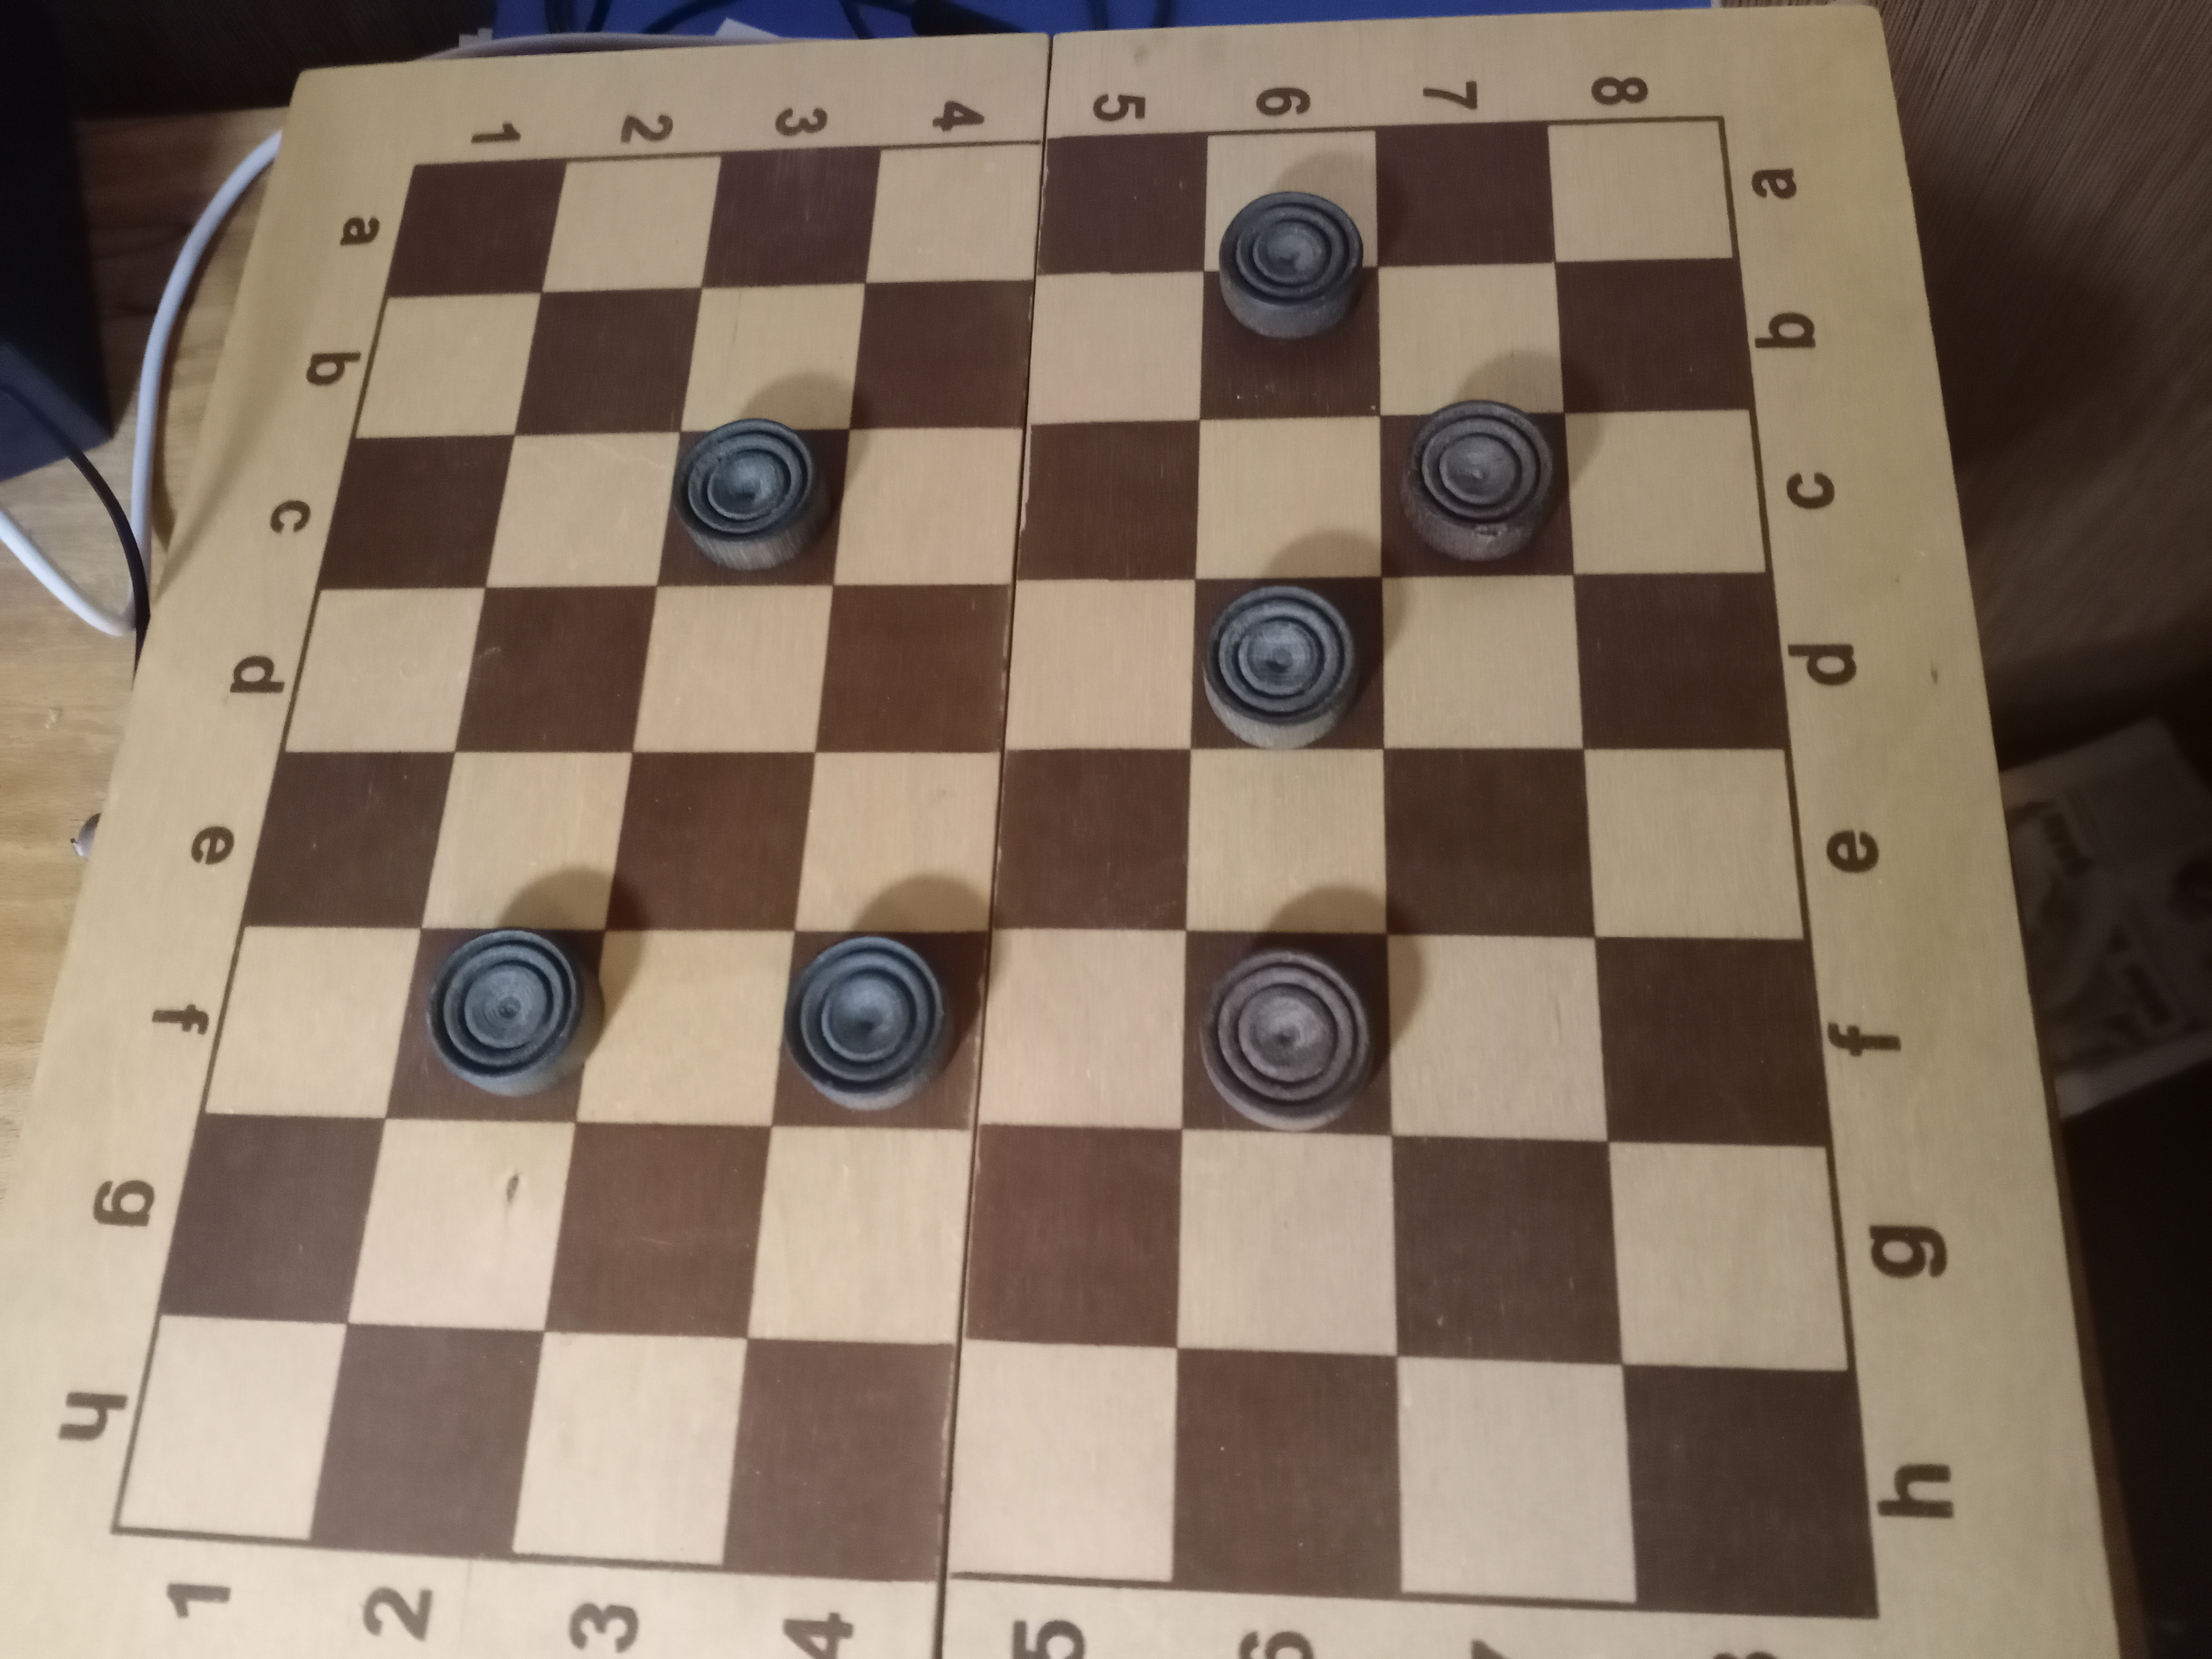Black_Draught: (770, 931, 989, 1129), (383, 927, 604, 1124), (1183, 931, 1393, 1136), (1200, 190, 1381, 420), (1379, 399, 1575, 577), (1190, 577, 1385, 748), (658, 418, 850, 586)
